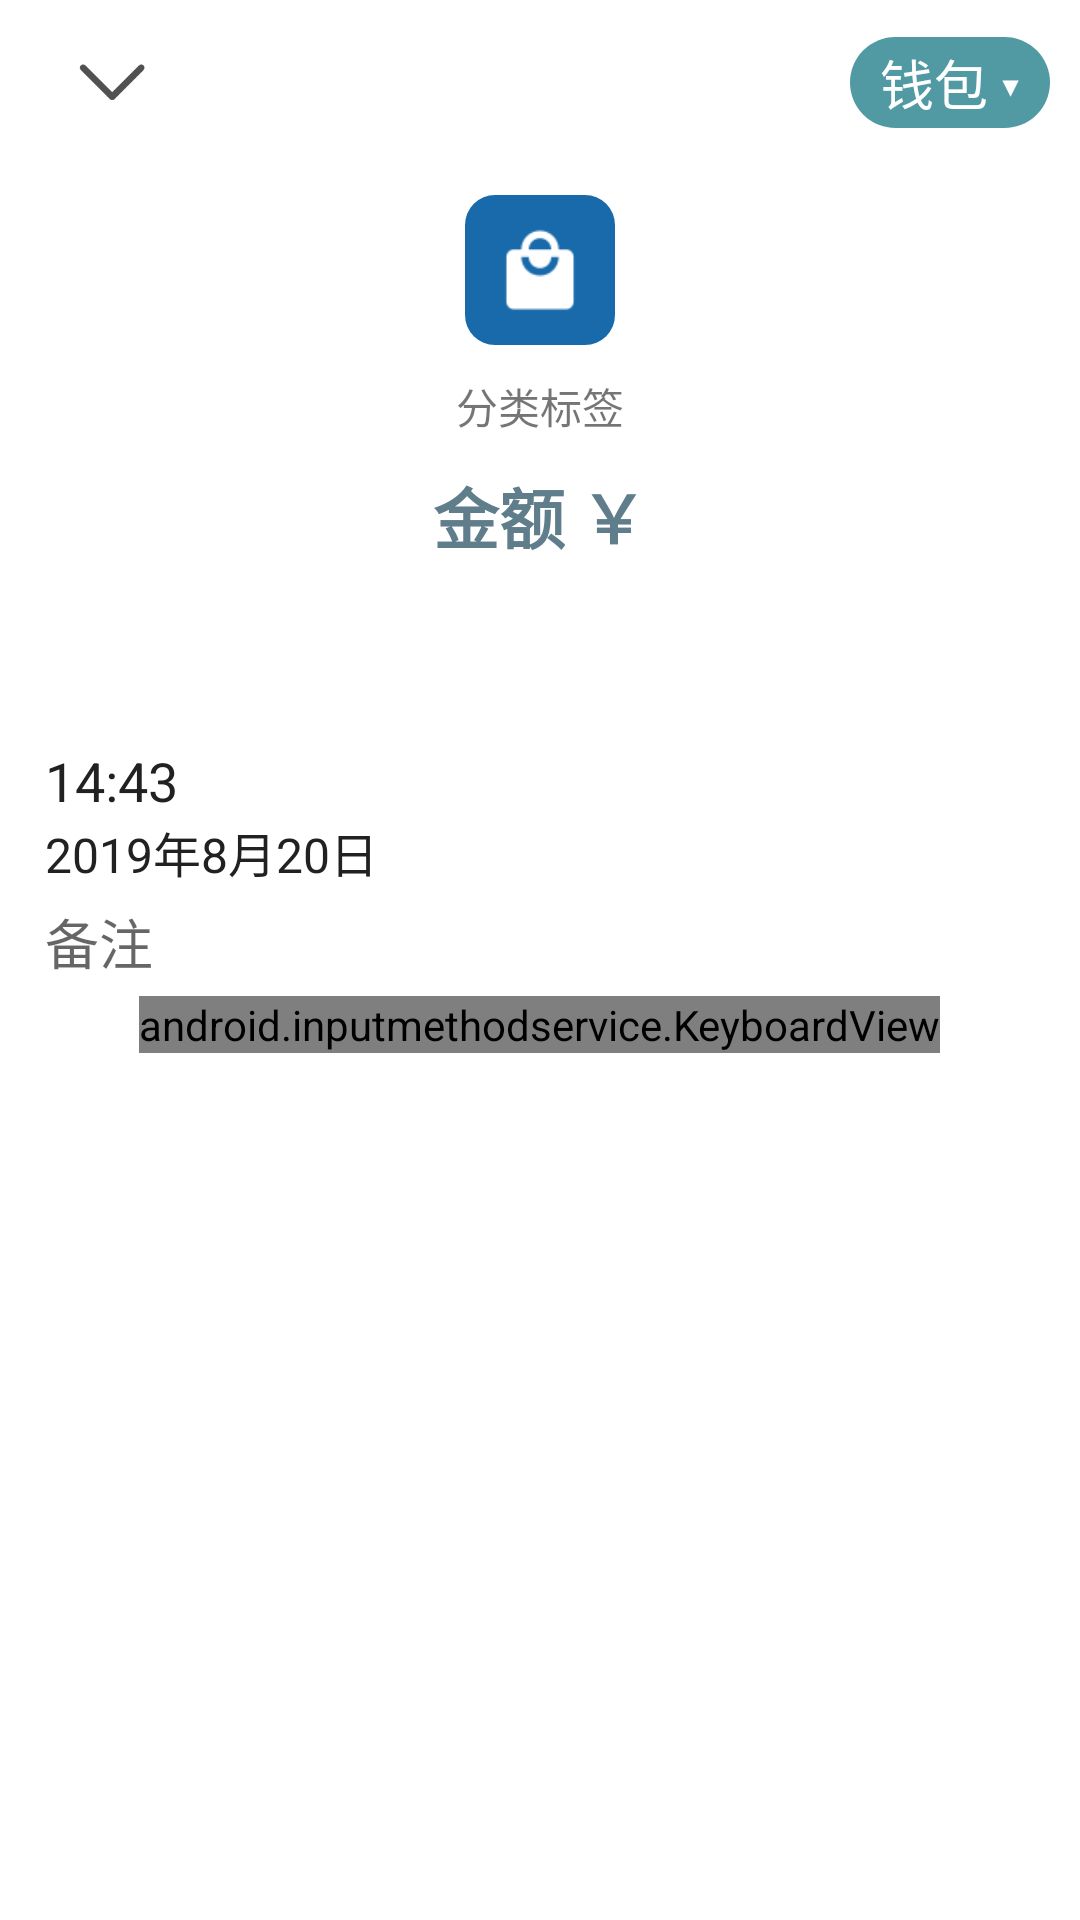

Locate icon controls on the screen. Image size 1080px×1920px, boxes as (x1, y1, x2, y2).
back down: (80, 64, 145, 100)
gouwu: (465, 195, 615, 345)
